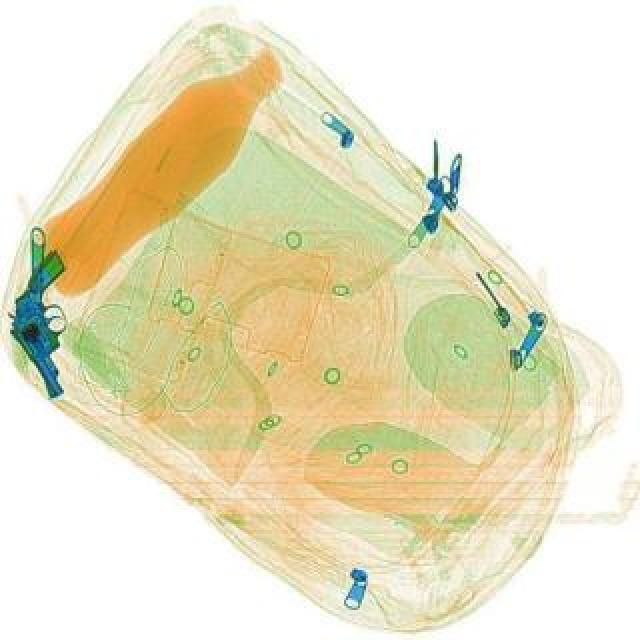gun: (0, 254, 98, 388)
